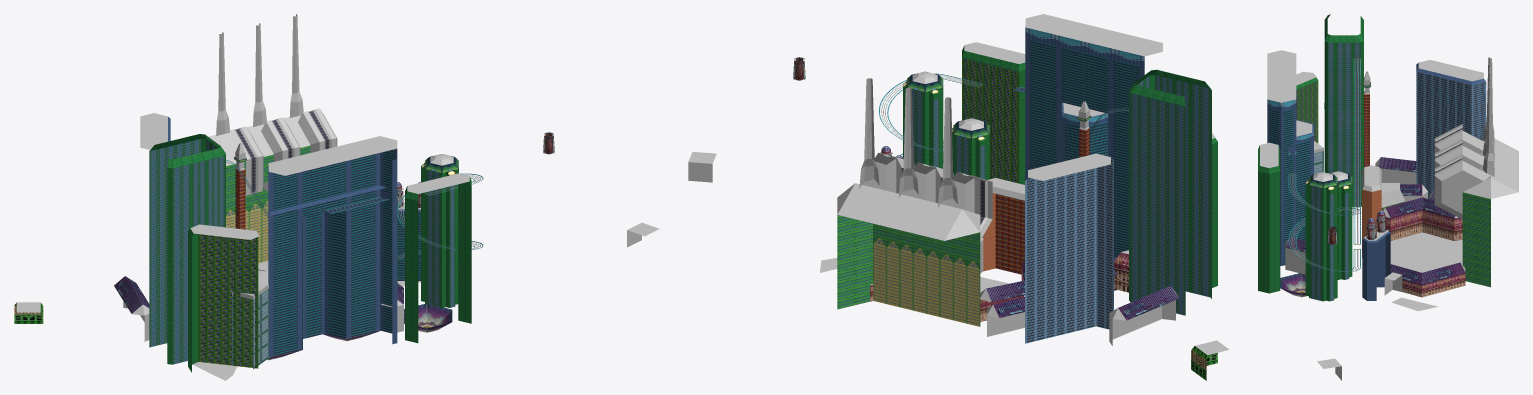
The model's file is City_Course4.obj.
3 views of the same model, side by side, from view 1: azimuth 30°, elevation 25°; view 2: azimuth 150°, elevation 25°; view 3: azimuth 270°, elevation 25° (orthographic). The views are drawn at different scales.
Visible parts, largest first — view 1: obj3, Object_2; view 2: obj3, Object_2; view 3: Object_2, obj3, obj1.
Boxes of the visible parts, <box> form: obj3: <box>140,113,554,372</box>; Object_2: <box>14,14,659,380</box>; obj3: <box>793,38,1217,343</box>; Object_2: <box>688,14,1229,380</box>; Object_2: <box>1267,14,1518,380</box>; obj3: <box>1258,42,1490,301</box>; obj1: <box>1289,58,1360,271</box>.
Size of the model in its own units: 17128 by 6701 by 8042.
